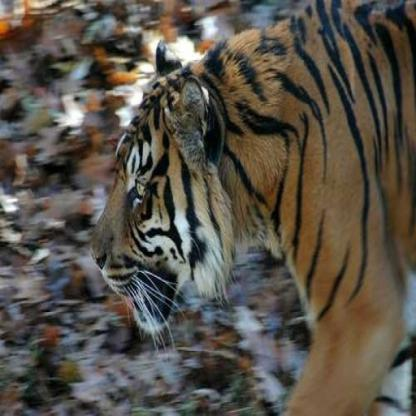Tiger: (89, 7, 415, 415)
